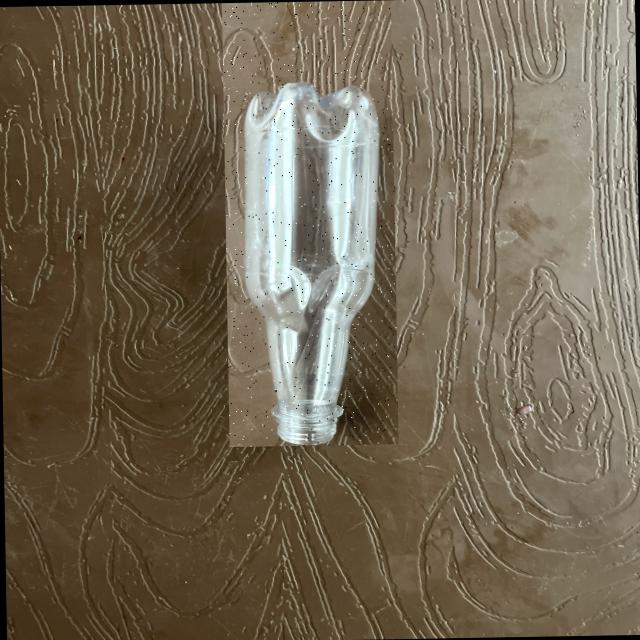PET_ClearBottle: (220, 0, 397, 445)
